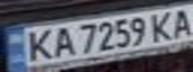2: (97, 18, 118, 52)
5: (112, 16, 136, 48)
7: (75, 20, 100, 55)
9: (127, 15, 151, 46)
A: (48, 25, 78, 58), (166, 6, 193, 38)
K: (21, 26, 57, 62), (148, 9, 178, 43)
